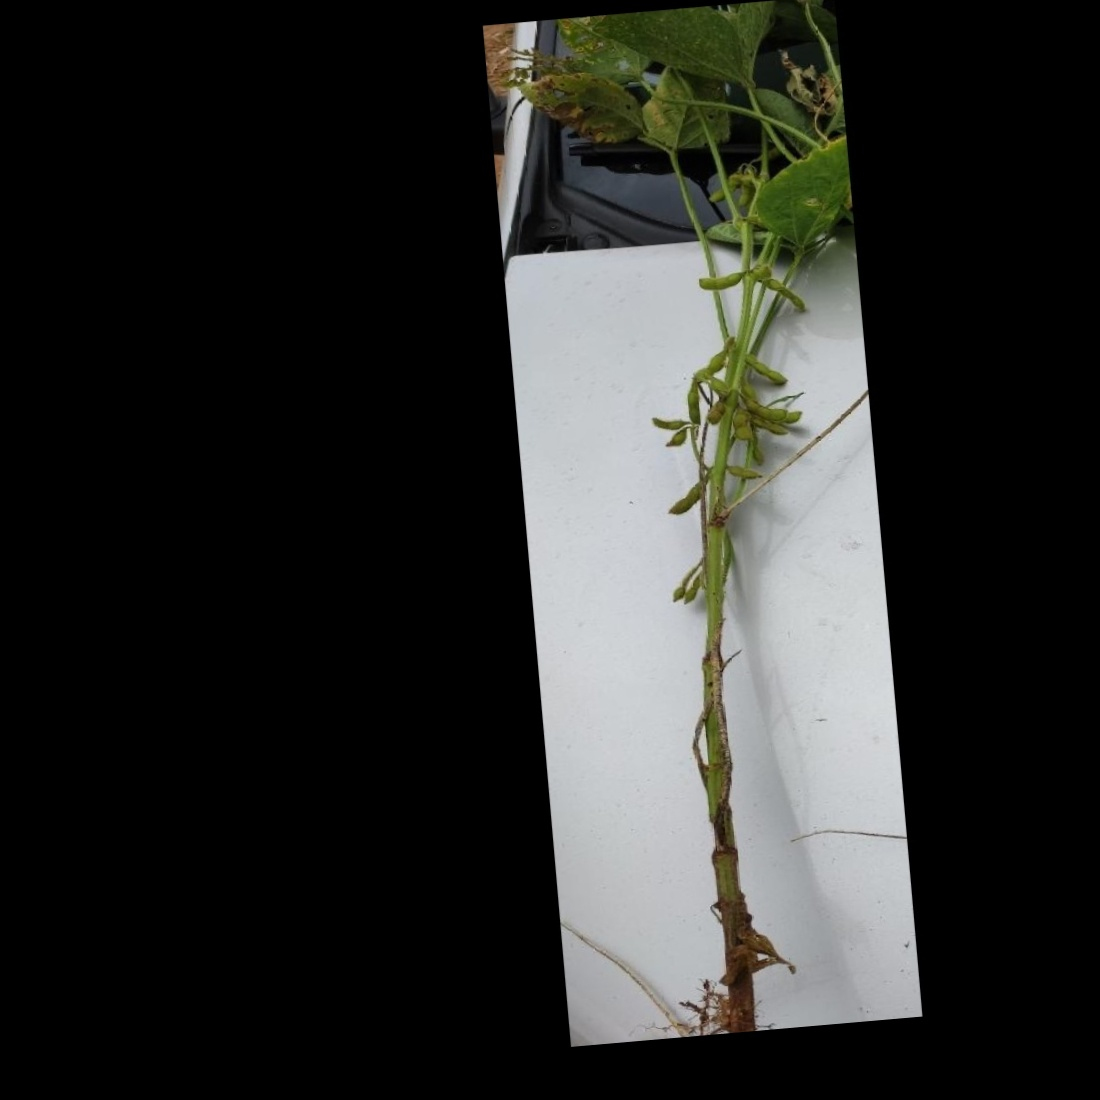pod: (663, 475, 714, 517), (758, 274, 809, 315), (745, 349, 790, 388), (696, 268, 746, 292), (641, 411, 693, 434), (681, 570, 710, 608), (710, 169, 742, 202), (684, 381, 705, 427), (729, 405, 753, 442), (660, 426, 693, 451), (726, 461, 766, 482), (703, 398, 730, 425), (664, 578, 686, 606), (736, 176, 752, 208)
soy: (513, 8, 911, 1064)
